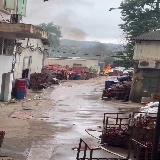fire: (103, 66, 111, 73)
